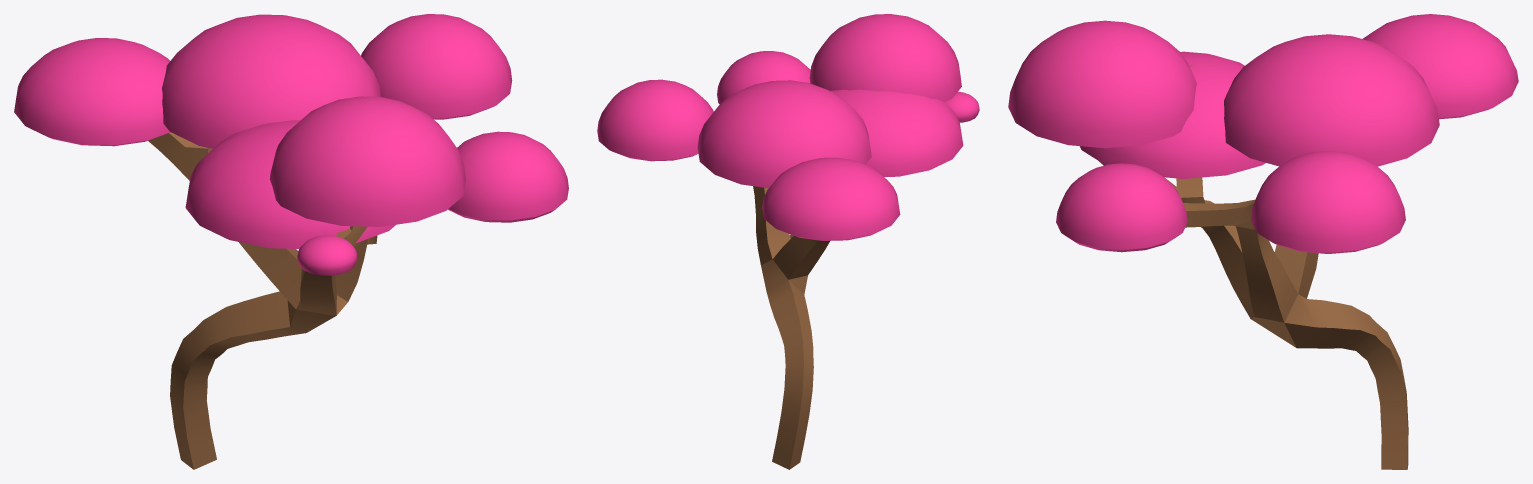
The model's file is ArbolRosa.fbx.
3 renders of one model, left to right at view 1: azimuth 30°, elevation 25°; view 2: azimuth 150°, elevation 25°; view 3: azimuth 270°, elevation 25°, orthographic. The views are drawn at different scales.
Visible parts, largest first — view 1: Arbol_1.002; view 2: Arbol_1.002; view 3: Arbol_1.002.
Part boxes in pixels (box(x1,y1,x2,y2)): Arbol_1.002: box(14, 14, 568, 469); Arbol_1.002: box(597, 14, 979, 469); Arbol_1.002: box(1008, 14, 1518, 469).
Size of the model in its own units: 9.05 by 9.38 by 9.69.
Materials: 1 (1 with a texture image).
